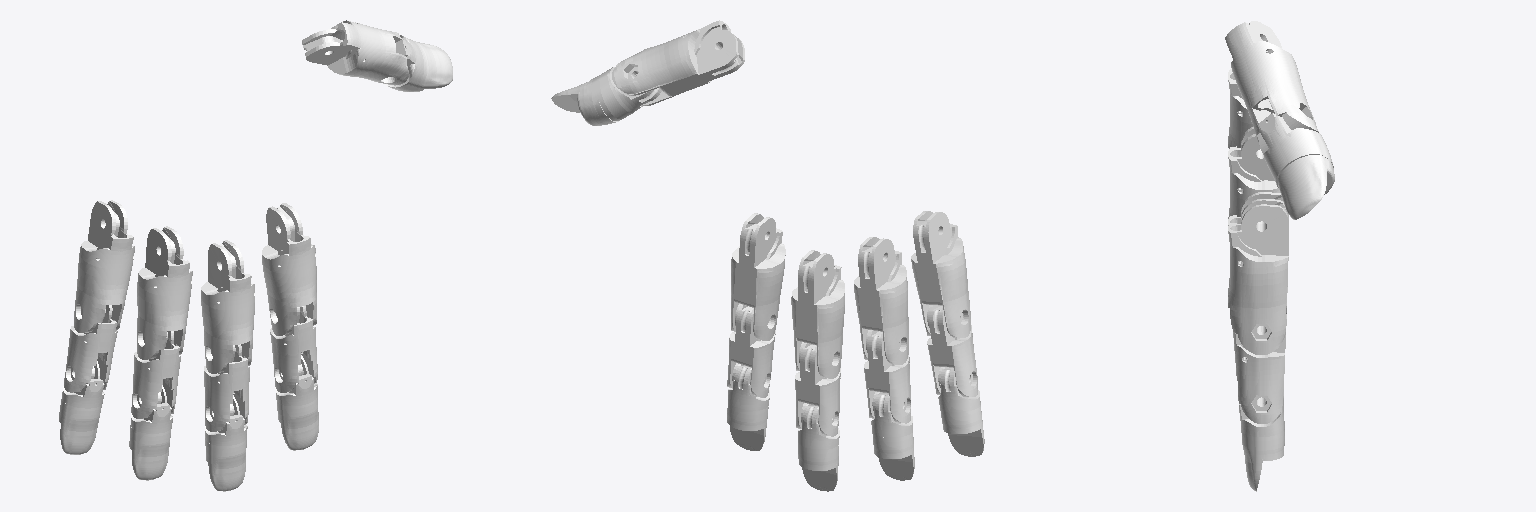
URDF robot description (imoov2):
<?xml version="1.0" encoding="utf-8"?>
<!-- This URDF was automatically created by SolidWorks to URDF Exporter! Originally created by Stephen Brawner (brawner@gmail.com) 
     Commit Version: 1.6.0-4-g7f85cfe  Build Version: 1.6.7995.38578
     For more information, please see http://wiki.ros.org/sw_urdf_exporter -->
<robot
  name="imoov2">
  <link
    name="base_link">
    <inertial>
      <origin
        xyz="0.0395854733858584 -0.118734681059833 0.0917259298234958"
        rpy="0 0 0" />
      <mass
        value="0.204557355553323" />
      <inertia
        ixx="0.000219269089197566"
        ixy="-1.93109920935303E-07"
        ixz="3.18683480919272E-06"
        iyy="0.000343155840486432"
        iyz="-2.72910489448563E-06"
        izz="0.000133667538053643" />
    </inertial>
    <visual>
      <origin
        xyz="0 0 0"
        rpy="0 0 0" />
      <geometry>
        <mesh
          filename="package://imoov2/meshes/base_link.STL" />
      </geometry>
      <material
        name="">
        <color
          rgba="1 1 1 0.85" />
      </material>
    </visual>
    <collision>
      <origin
        xyz="0 0 0"
        rpy="0 0 0" />
      <geometry>
        <mesh
          filename="package://imoov2/meshes/base_link.STL" />
      </geometry>
    </collision>
  </link>
  <link
    name="thumb_0">
    <inertial>
      <origin
        xyz="-0.00129794172022103 -0.0194981145646031 -0.000307915762879418"
        rpy="0 0 0" />
      <mass
        value="0.0108672032176464" />
      <inertia
        ixx="1.67634476522624E-06"
        ixy="-1.9013537682748E-09"
        ixz="1.32029466416989E-10"
        iyy="5.50331396997881E-07"
        iyz="4.4396569847956E-09"
        izz="1.70616817369079E-06" />
    </inertial>
    <visual>
      <origin
        xyz="0 0 0"
        rpy="0 0 0" />
      <geometry>
        <mesh
          filename="package://imoov2/meshes/thumb_0.STL" />
      </geometry>
      <material
        name="">
        <color
          rgba="1 1 1 0.85" />
      </material>
    </visual>
    <collision>
      <origin
        xyz="0 0 0"
        rpy="0 0 0" />
      <geometry>
        <mesh
          filename="package://imoov2/meshes/thumb_0.STL" />
      </geometry>
    </collision>
  </link>
  <joint
    name="thumb_0"
    type="revolute">
    <origin
      xyz="0.087807 -0.1227 0.11053"
      rpy="0.65192 -0.75405 1.3805" />
    <parent
      link="base_link" />
    <child
      link="thumb_0" />
    <axis
      xyz="1 0.00021089 0.0002512" />
    <limit
      lower="0"
      upper="0"
      effort="0"
      velocity="0" />
  </joint>
  <link
    name="thumb_1">
    <inertial>
      <origin
        xyz="-0.00147494264121832 0.0028914317565617 -0.0147218282413791"
        rpy="0 0 0" />
      <mass
        value="0.00893185250619734" />
      <inertia
        ixx="5.32169072403586E-07"
        ixy="4.57249291611598E-11"
        ixz="-5.52103680968188E-10"
        iyy="5.39789127998279E-07"
        iyz="1.55587929735374E-08"
        izz="4.03024454348859E-07" />
    </inertial>
    <visual>
      <origin
        xyz="0 0 0"
        rpy="0 0 0" />
      <geometry>
        <mesh
          filename="package://imoov2/meshes/thumb_1.STL" />
      </geometry>
      <material
        name="">
        <color
          rgba="1 1 1 0.85" />
      </material>
    </visual>
    <collision>
      <origin
        xyz="0 0 0"
        rpy="0 0 0" />
      <geometry>
        <mesh
          filename="package://imoov2/meshes/thumb_1.STL" />
      </geometry>
    </collision>
  </link>
  <joint
    name="thumb_1"
    type="revolute">
    <origin
      xyz="0 -0.034987 -0.001007"
      rpy="-1.677 -0.0002512 0.00021089" />
    <parent
      link="thumb_0" />
    <child
      link="thumb_1" />
    <axis
      xyz="1 0 0" />
    <limit
      lower="0"
      upper="0"
      effort="0"
      velocity="0" />
  </joint>
  <link
    name="finger_1_0">
    <inertial>
      <origin
        xyz="0.0134847648542176 -0.0186688310834937 -0.000374802486355533"
        rpy="0 0 0" />
      <mass
        value="0.0101380943278621" />
      <inertia
        ixx="1.44251998590902E-06"
        ixy="1.77591109962472E-09"
        ixz="1.72572645168603E-10"
        iyy="4.85901873489349E-07"
        iyz="2.36906372815661E-08"
        izz="1.45287361544575E-06" />
    </inertial>
    <visual>
      <origin
        xyz="0 0 0"
        rpy="0 0 0" />
      <geometry>
        <mesh
          filename="package://imoov2/meshes/finger_1_0.STL" />
      </geometry>
      <material
        name="">
        <color
          rgba="1 1 1 0.85" />
      </material>
    </visual>
    <collision>
      <origin
        xyz="0 0 0"
        rpy="0 0 0" />
      <geometry>
        <mesh
          filename="package://imoov2/meshes/finger_1_0.STL" />
      </geometry>
    </collision>
  </link>
  <joint
    name="finger_1_0"
    type="revolute">
    <origin
      xyz="0.057447 -0.1219 0.036823"
      rpy="1.542 -0.074329 0.00032029" />
    <parent
      link="base_link" />
    <child
      link="finger_1_0" />
    <axis
      xyz="1 6.3693E-05 0.00032128" />
    <limit
      lower="0"
      upper="0"
      effort="0"
      velocity="0" />
  </joint>
  <link
    name="finger_1_1">
    <inertial>
      <origin
        xyz="-0.010945741497989 0.013482127139823 -0.000930546005066937"
        rpy="0 0 0" />
      <mass
        value="0.0050878040303955" />
      <inertia
        ixx="4.89021522080569E-07"
        ixy="-1.25166756306724E-11"
        ixz="-1.17123551291102E-10"
        iyy="1.81767754376907E-07"
        iyz="-6.00946501598828E-09"
        izz="4.99464730105019E-07" />
    </inertial>
    <visual>
      <origin
        xyz="0 0 0"
        rpy="0 0 0" />
      <geometry>
        <mesh
          filename="package://imoov2/meshes/finger_1_1.STL" />
      </geometry>
      <material
        name="">
        <color
          rgba="1 1 1 0.85" />
      </material>
    </visual>
    <collision>
      <origin
        xyz="0 0 0"
        rpy="0 0 0" />
      <geometry>
        <mesh
          filename="package://imoov2/meshes/finger_1_1.STL" />
      </geometry>
    </collision>
  </link>
  <joint
    name="finger_1_1"
    type="revolute">
    <origin
      xyz="0.00234133192051551 -0.0349868831587002 -0.00100613555582905"
      rpy="0.0119228680312218 0.000321432919110681 -3.14152666155475" />
    <parent
      link="finger_1_0" />
    <child
      link="finger_1_1" />
    <axis
      xyz="0.999999999997345 0 0" />
    <limit
      lower="0"
      upper="0"
      effort="0"
      velocity="0" />
  </joint>
  <link
    name="finger_1_2">
    <inertial>
      <origin
        xyz="0.0109946674663366 0.000257537373214961 0.0121241444712283"
        rpy="0 0 0" />
      <mass
        value="0.00396315026245157" />
      <inertia
        ixx="1.51030086823453E-07"
        ixy="5.11388519343536E-11"
        ixz="2.75007688813601E-10"
        iyy="1.53405522987401E-07"
        iyz="-1.4334812178304E-08"
        izz="1.09406702991618E-07" />
    </inertial>
    <visual>
      <origin
        xyz="0 0 0"
        rpy="0 0 0" />
      <geometry>
        <mesh
          filename="package://imoov2/meshes/finger_1_2.STL" />
      </geometry>
      <material
        name="">
        <color
          rgba="1 1 1 0.85" />
      </material>
    </visual>
    <collision>
      <origin
        xyz="0 0 0"
        rpy="0 0 0" />
      <geometry>
        <mesh
          filename="package://imoov2/meshes/finger_1_2.STL" />
      </geometry>
    </collision>
  </link>
  <joint
    name="finger_1_2"
    type="revolute">
    <origin
      xyz="0.000340950465999169 0.0249788766107058 -0.00101704657849791"
      rpy="1.63667445305117 -0.00018735510101414 3.14159047757948" />
    <parent
      link="finger_1_1" />
    <child
      link="finger_1_2" />
    <axis
      xyz="0.999999982415328 -0.000187120100612656 1.24664625946811E-05" />
    <limit
      lower="0"
      upper="0"
      effort="0"
      velocity="0" />
  </joint>
  <link
    name="finger_2_0">
    <inertial>
      <origin
        xyz="0.0097363771795082 -0.0186690698289165 -0.00037600677042976"
        rpy="0 0 0" />
      <mass
        value="0.0101380943278622" />
      <inertia
        ixx="1.44251998590902E-06"
        ixy="1.77591109962435E-09"
        ixz="1.72572645168633E-10"
        iyy="4.8590187348935E-07"
        iyz="2.36906372815661E-08"
        izz="1.45287361544574E-06" />
    </inertial>
    <visual>
      <origin
        xyz="0 0 0"
        rpy="0 0 0" />
      <geometry>
        <mesh
          filename="package://imoov2/meshes/finger_2_0.STL" />
      </geometry>
      <material
        name="">
        <color
          rgba="1 1 1 0.85" />
      </material>
    </visual>
    <collision>
      <origin
        xyz="0 0 0"
        rpy="0 0 0" />
      <geometry>
        <mesh
          filename="package://imoov2/meshes/finger_2_0.STL" />
      </geometry>
    </collision>
  </link>
  <joint
    name="finger_2_0"
    type="revolute">
    <origin
      xyz="0.035893 -0.1219 0.028431"
      rpy="1.542 7.2612E-05 0.00032185" />
    <parent
      link="base_link" />
    <child
      link="finger_2_0" />
    <axis
      xyz="1 6.3693E-05 0.00032128" />
    <limit
      lower="0"
      upper="0"
      effort="0"
      velocity="0" />
  </joint>
  <link
    name="finger_2_1">
    <inertial>
      <origin
        xyz="-0.0079976781802883 0.01348211957083 -0.000930565040464515"
        rpy="0 0 0" />
      <mass
        value="0.00508780403039549" />
      <inertia
        ixx="4.89021522656175E-07"
        ixy="-1.24713692007104E-11"
        ixz="-1.17148500792812E-10"
        iyy="1.81767754374417E-07"
        iyz="-6.00946505822133E-09"
        izz="4.99464729531897E-07" />
    </inertial>
    <visual>
      <origin
        xyz="0 0 0"
        rpy="0 0 0" />
      <geometry>
        <mesh
          filename="package://imoov2/meshes/finger_2_1.STL" />
      </geometry>
      <material
        name="">
        <color
          rgba="1 1 1 0.85" />
      </material>
    </visual>
    <collision>
      <origin
        xyz="0 0 0"
        rpy="0 0 0" />
      <geometry>
        <mesh
          filename="package://imoov2/meshes/finger_2_1.STL" />
      </geometry>
    </collision>
  </link>
  <joint
    name="finger_2_1"
    type="revolute">
    <origin
      xyz="0.0015411 -0.034987 -0.0010064"
      rpy="0.011923 0.00032388 -3.1415" />
    <parent
      link="finger_2_0" />
    <child
      link="finger_2_1" />
    <axis
      xyz="1 0 0" />
    <limit
      lower="0"
      upper="0"
      effort="0"
      velocity="0" />
  </joint>
  <link
    name="finger_2_2">
    <inertial>
      <origin
        xyz="0.00770581433811263 0.00025815127895118 0.0121240386103014"
        rpy="0 0 0" />
      <mass
        value="0.00396315026245157" />
      <inertia
        ixx="1.51030091469933E-07"
        ixy="5.10186588229319E-11"
        ixz="2.74654543528698E-10"
        iyy="1.5340552301206E-07"
        iyz="-1.43348125934478E-08"
        izz="1.09406698320478E-07" />
    </inertial>
    <visual>
      <origin
        xyz="0 0 0"
        rpy="0 0 0" />
      <geometry>
        <mesh
          filename="package://imoov2/meshes/finger_2_2.STL" />
      </geometry>
      <material
        name="">
        <color
          rgba="1 1 1 0.85" />
      </material>
    </visual>
    <collision>
      <origin
        xyz="0 0 0"
        rpy="0 0 0" />
      <geometry>
        <mesh
          filename="package://imoov2/meshes/finger_2_2.STL" />
      </geometry>
    </collision>
  </link>
  <joint
    name="finger_2_2"
    type="revolute">
    <origin
      xyz="0 0.024979 -0.001017"
      rpy="1.6347 -0.00018457 3.1416" />
    <parent
      link="finger_2_1" />
    <child
      link="finger_2_2" />
    <axis
      xyz="1 -0.00018732 0" />
    <limit
      lower="0"
      upper="0"
      effort="0"
      velocity="0" />
  </joint>
  <link
    name="finger_3_0">
    <inertial>
      <origin
        xyz="0.00959559818055215 -0.0186690787955295 -0.000376051999984778"
        rpy="0 0 0" />
      <mass
        value="0.0101380943278621" />
      <inertia
        ixx="1.44251998590902E-06"
        ixy="1.77591109962488E-09"
        ixz="1.72572645168597E-10"
        iyy="4.8590187348935E-07"
        iyz="2.36906372815661E-08"
        izz="1.45287361544575E-06" />
    </inertial>
    <visual>
      <origin
        xyz="0 0 0"
        rpy="0 0 0" />
      <geometry>
        <mesh
          filename="package://imoov2/meshes/finger_3_0.STL" />
      </geometry>
      <material
        name="">
        <color
          rgba="1 1 1 0.85" />
      </material>
    </visual>
    <collision>
      <origin
        xyz="0 0 0"
        rpy="0 0 0" />
      <geometry>
        <mesh
          filename="package://imoov2/meshes/finger_3_0.STL" />
      </geometry>
    </collision>
  </link>
  <joint
    name="finger_3_0"
    type="revolute">
    <origin
      xyz="0.0098609 -0.1219 0.0412"
      rpy="1.5421 0.085236 0.00032597" />
    <parent
      link="base_link" />
    <child
      link="finger_3_0" />
    <axis
      xyz="1 6.3693E-05 0.00032128" />
    <limit
      lower="0"
      upper="0"
      effort="0"
      velocity="0" />
  </joint>
  <link
    name="finger_3_1">
    <inertial>
      <origin
        xyz="-0.00939540219882894 0.0134821215208011 -0.000930596259947458"
        rpy="0 0 0" />
      <mass
        value="0.0050878040303955" />
      <inertia
        ixx="4.89021523346232E-07"
        ixy="-1.24170662867753E-11"
        ixz="-1.17178404499171E-10"
        iyy="1.81767754371446E-07"
        iyz="-6.00946510869746E-09"
        izz="4.99464728844815E-07" />
    </inertial>
    <visual>
      <origin
        xyz="0 0 0"
        rpy="0 0 0" />
      <geometry>
        <mesh
          filename="package://imoov2/meshes/finger_3_1.STL" />
      </geometry>
      <material
        name="">
        <color
          rgba="1 1 1 0.85" />
      </material>
    </visual>
    <collision>
      <origin
        xyz="0 0 0"
        rpy="0 0 0" />
      <geometry>
        <mesh
          filename="package://imoov2/meshes/finger_3_1.STL" />
      </geometry>
    </collision>
  </link>
  <joint
    name="finger_3_1"
    type="revolute">
    <origin
      xyz="0 -0.0349870321222199 -0.00100688696036794"
      rpy="0.0119227525352082 0.000326813692680966 -3.14152681640909" />
    <parent
      link="finger_3_0" />
    <child
      link="finger_3_1" />
    <axis
      xyz="0.999999999982393 0 0" />
    <limit
      lower="0"
      upper="0"
      effort="0"
      velocity="0" />
  </joint>
  <link
    name="finger_3_2">
    <inertial>
      <origin
        xyz="0.00910341944746399 0.000257891262617507 0.0121238414578733"
        rpy="0 0 0" />
      <mass
        value="0.00396315026245157" />
      <inertia
        ixx="1.51030086823452E-07"
        ixy="5.1138851934427E-11"
        ixz="2.75007688813513E-10"
        iyy="1.534055229874E-07"
        iyz="-1.43348121783041E-08"
        izz="1.09406702991617E-07" />
    </inertial>
    <visual>
      <origin
        xyz="0 0 0"
        rpy="0 0 0" />
      <geometry>
        <mesh
          filename="package://imoov2/meshes/finger_3_2.STL" />
      </geometry>
      <material
        name="">
        <color
          rgba="1 1 1 0.85" />
      </material>
    </visual>
    <collision>
      <origin
        xyz="0 0 0"
        rpy="0 0 0" />
      <geometry>
        <mesh
          filename="package://imoov2/meshes/finger_3_2.STL" />
      </geometry>
    </collision>
  </link>
  <joint
    name="finger_3_2"
    type="revolute">
    <origin
      xyz="0 0.0249788773938257 -0.00101704663947298"
      rpy="1.63609777029607 -0.000181976455303482 3.141590804723" />
    <parent
      link="finger_3_1" />
    <child
      link="finger_3_2" />
    <axis
      xyz="0.999999982415328 -0.000187120100606966 1.24664625944723E-05" />
    <limit
      lower="0"
      upper="0"
      effort="0"
      velocity="0" />
  </joint>
  <link
    name="finger_4_0">
    <inertial>
      <origin
        xyz="-0.00919582247553968 -0.0186702756743104 -0.000382089318051143"
        rpy="0 0 0" />
      <mass
        value="0.0101380943278621" />
      <inertia
        ixx="1.44251998590902E-06"
        ixy="1.7759110996246E-09"
        ixz="1.72572645168487E-10"
        iyy="4.85901873489349E-07"
        iyz="2.36906372815662E-08"
        izz="1.45287361544574E-06" />
    </inertial>
    <visual>
      <origin
        xyz="0 0 0"
        rpy="0 0 0" />
      <geometry>
        <mesh
          filename="package://imoov2/meshes/finger_4_0.STL" />
      </geometry>
      <material
        name="">
        <color
          rgba="1 1 1 0.85" />
      </material>
    </visual>
    <collision>
      <origin
        xyz="0 0 0"
        rpy="0 0 0" />
      <geometry>
        <mesh
          filename="package://imoov2/meshes/finger_4_0.STL" />
      </geometry>
    </collision>
  </link>
  <joint
    name="finger_4_0"
    type="revolute">
    <origin
      xyz="0.00443044947401956 -0.121904695293454 0.0553473193876343"
      rpy="1.54207831883503 0.163939712584696 0.000325720754750775" />
    <parent
      link="base_link" />
    <child
      link="finger_4_0" />
    <axis
      xyz="0.999999946361018 6.36928276249997E-05 0.000321280538233148" />
    <limit
      lower="0"
      upper="0"
      effort="0"
      velocity="0" />
  </joint>
  <link
    name="finger_4_1">
    <inertial>
      <origin
        xyz="0.00758856590870088 0.013482085164998 -0.000930527872477854"
        rpy="0 0 0" />
      <mass
        value="0.0050878040303955" />
      <inertia
        ixx="4.89021522539462E-07"
        ixy="-1.24805551632205E-11"
        ixz="-1.1714344223451E-10"
        iyy="1.81767754374921E-07"
        iyz="-6.00946504966757E-09"
        izz="4.9946472964811E-07" />
    </inertial>
    <visual>
      <origin
        xyz="0 0 0"
        rpy="0 0 0" />
      <geometry>
        <mesh
          filename="package://imoov2/meshes/finger_4_1.STL" />
      </geometry>
      <material
        name="">
        <color
          rgba="1 1 1 0.85" />
      </material>
    </visual>
    <collision>
      <origin
        xyz="0 0 0"
        rpy="0 0 0" />
      <geometry>
        <mesh
          filename="package://imoov2/meshes/finger_4_1.STL" />
      </geometry>
    </collision>
  </link>
  <joint
    name="finger_4_1"
    type="revolute">
    <origin
      xyz="-0.00180490023484567 -0.0349871472439644 -0.00100746765959903"
      rpy="0.0119228680661924 0.000323384102151108 -3.14152671770799" />
    <parent
      link="finger_4_0" />
    <child
      link="finger_4_1" />
    <axis
      xyz="0.999999999995272 0 0" />
    <limit
      lower="0"
      upper="0"
      effort="0"
      velocity="0" />
  </joint>
  <link
    name="finger_4_2">
    <inertial>
      <origin
        xyz="-0.00788054966979994 0.000261069304683351 0.0121236297278539"
        rpy="0 0 0" />
      <mass
        value="0.00396315026245157" />
      <inertia
        ixx="1.51030086823453E-07"
        ixy="5.11388519343242E-11"
        ixz="2.75007688813471E-10"
        iyy="1.534055229874E-07"
        iyz="-1.43348121783042E-08"
        izz="1.09406702991617E-07" />
    </inertial>
    <visual>
      <origin
        xyz="0 0 0"
        rpy="0 0 0" />
      <geometry>
        <mesh
          filename="package://imoov2/meshes/finger_4_2.STL" />
      </geometry>
      <material
        name="">
        <color
          rgba="1 1 1 0.85" />
      </material>
    </visual>
    <collision>
      <origin
        xyz="0 0 0"
        rpy="0 0 0" />
      <geometry>
        <mesh
          filename="package://imoov2/meshes/finger_4_2.STL" />
      </geometry>
    </collision>
  </link>
  <joint
    name="finger_4_2"
    type="revolute">
    <origin
      xyz="0 0.0249788773938177 -0.00101704663967031"
      rpy="1.6563550449496 -0.000185370794183099 3.14158686640927" />
    <parent
      link="finger_4_1" />
    <child
      link="finger_4_2" />
    <axis
      xyz="0.999999982415327 -0.000187120100612727 1.24664625945134E-05" />
    <limit
      lower="0"
      upper="0"
      effort="0"
      velocity="0" />
  </joint>
</robot>

--- Render facts (derived) ---
Views: 3 orthographic renders of the robot side by side, from view 1: azimuth 30°, elevation 25°; view 2: azimuth 150°, elevation 25°; view 3: azimuth 270°, elevation 25°.
Model imoov2 with 15 links and 14 joints (14 revolute), rooted at base_link, posed every joint at zero.
Links seen in each view (by area): view 1: finger_4_0, finger_3_0, finger_2_0, finger_1_0, thumb_0, finger_4_1, finger_3_1, finger_4_2, finger_3_2, finger_2_2, finger_1_2, finger_2_1 (+2 smaller); view 2: thumb_0, finger_4_0, finger_3_0, finger_2_0, finger_1_0, thumb_1, finger_4_1, finger_4_2, finger_3_1, finger_2_1, finger_3_2, finger_2_2 (+2 smaller); view 3: finger_1_0, thumb_0, thumb_1, finger_1_1, finger_3_0, finger_1_2, finger_4_0.
Boxes of the visible links, bbox=[...] form: finger_4_0: bbox=[74, 200, 134, 332]; finger_3_0: bbox=[137, 226, 192, 359]; finger_2_0: bbox=[201, 240, 254, 373]; finger_1_0: bbox=[262, 203, 316, 335]; thumb_0: bbox=[302, 20, 408, 85]; finger_4_1: bbox=[64, 305, 117, 392]; finger_3_1: bbox=[131, 331, 180, 418]; finger_4_2: bbox=[59, 361, 104, 454]; finger_3_2: bbox=[129, 385, 172, 480]; finger_2_2: bbox=[205, 395, 247, 491]; finger_1_2: bbox=[275, 355, 318, 450]; finger_2_1: bbox=[204, 344, 249, 431]; thumb_0: bbox=[612, 20, 744, 106]; finger_4_0: bbox=[911, 211, 970, 337]; finger_3_0: bbox=[854, 237, 908, 364]; finger_2_0: bbox=[791, 250, 844, 378]; finger_1_0: bbox=[731, 213, 785, 340]; thumb_1: bbox=[551, 67, 661, 125]; finger_4_1: bbox=[927, 305, 977, 396]; finger_4_2: bbox=[938, 367, 984, 456]; finger_3_1: bbox=[864, 330, 910, 423]; finger_2_1: bbox=[795, 343, 840, 436]; finger_3_2: bbox=[871, 392, 914, 480]; finger_2_2: bbox=[798, 404, 839, 491]; finger_1_0: bbox=[1228, 199, 1288, 354]; thumb_0: bbox=[1225, 21, 1318, 154]; thumb_1: bbox=[1259, 113, 1334, 219]; finger_1_1: bbox=[1233, 326, 1285, 423]; finger_3_0: bbox=[1228, 127, 1279, 218]; finger_1_2: bbox=[1239, 396, 1284, 491]; finger_4_0: bbox=[1228, 68, 1252, 148].
Size in the robot's own frame: 0.1774 by 0.0357 by 0.1835 metres.
Meshes: 15 distinct files referenced, 14 mesh visuals loaded (14 binary STL); not drawn: 1 (reference not matched to a file when rendering).
